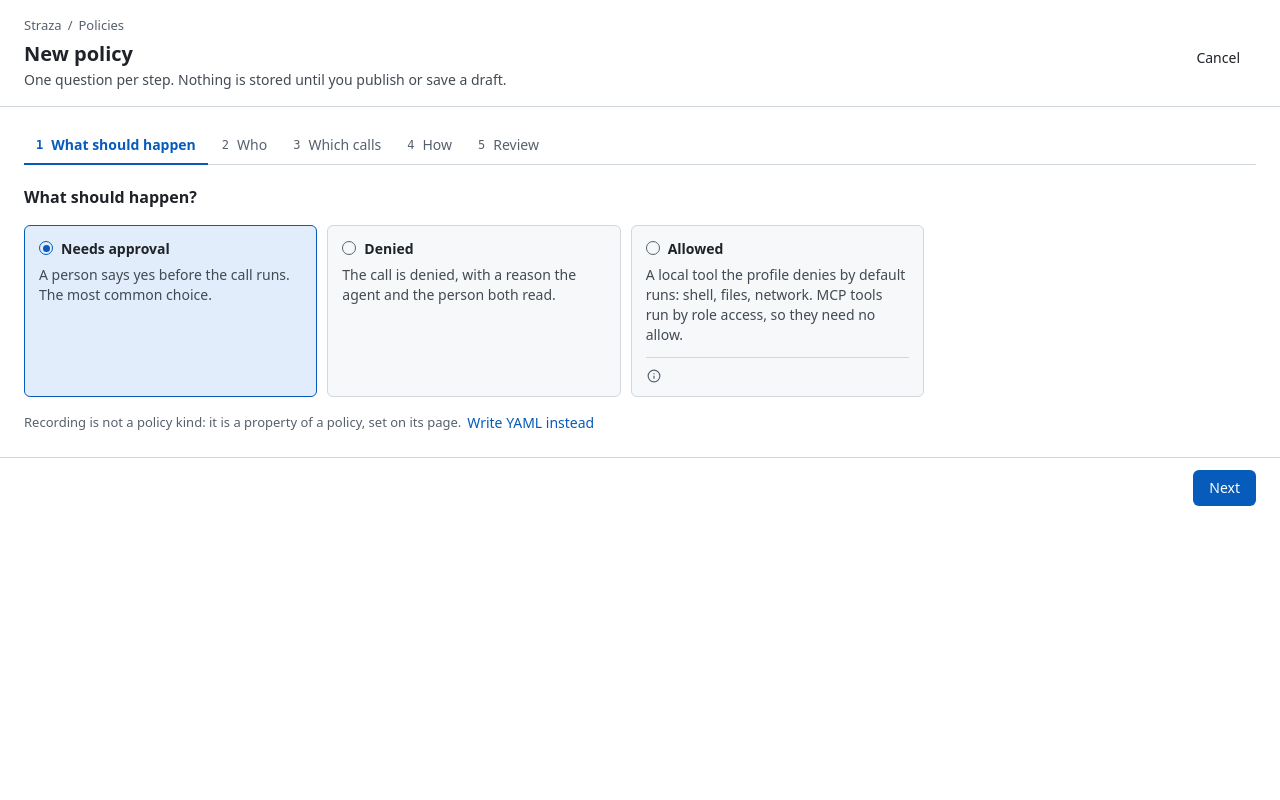
Scenario: the New policy wizard › opens the How step's lede on one tool, whose name keeps its case
The image size is (1280, 800).
Click the button "Next" at x=1225, y=488, box [1193, 470, 1256, 506]
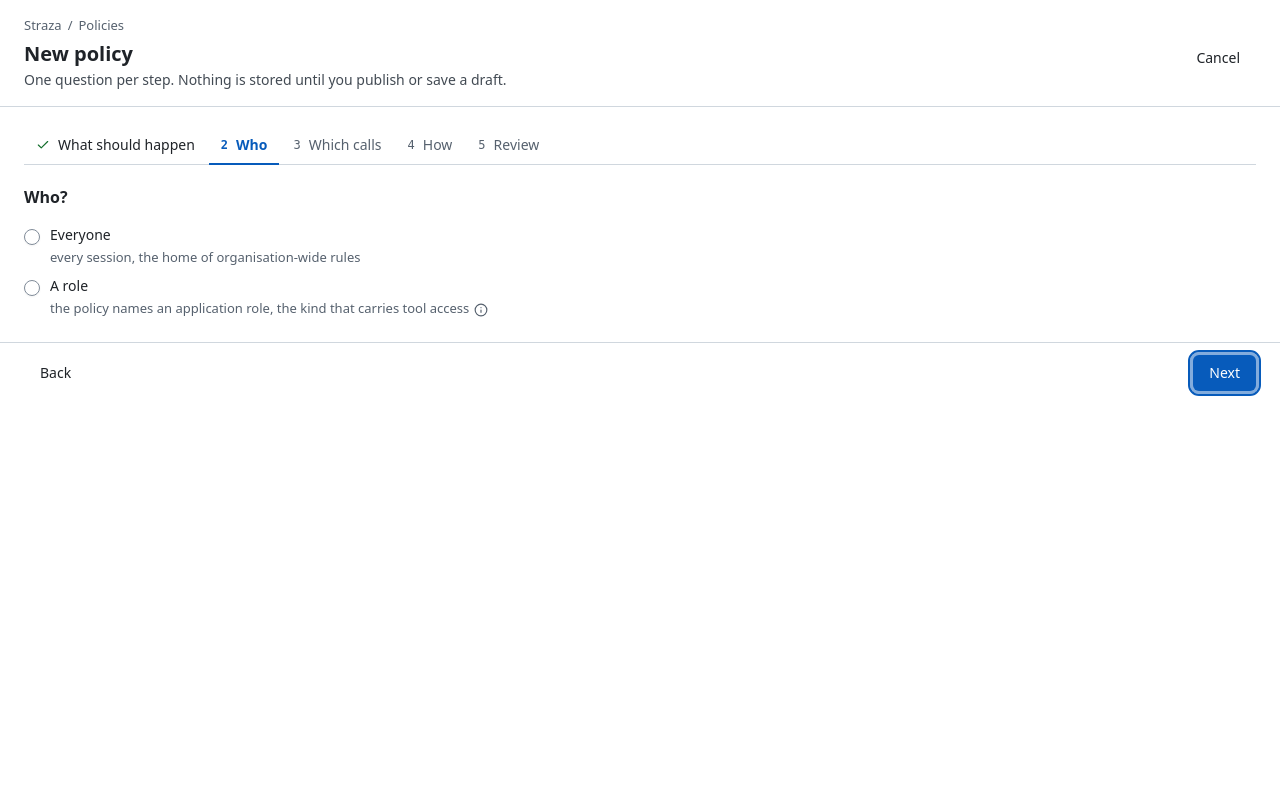
Click the radio button named "A role" at x=32, y=288, box [24, 280, 40, 296]
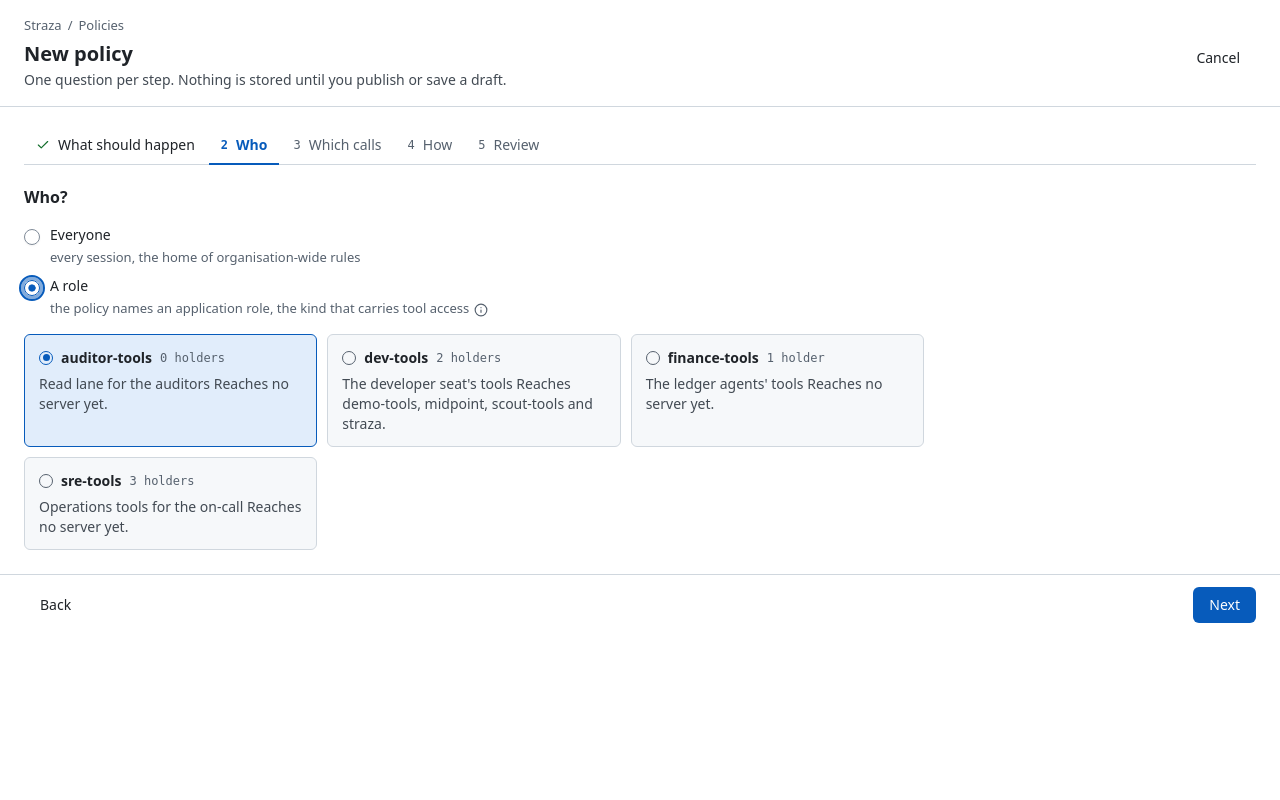
Click the radio button labelled "dev-tools" at x=474, y=391, box [328, 335, 620, 446]
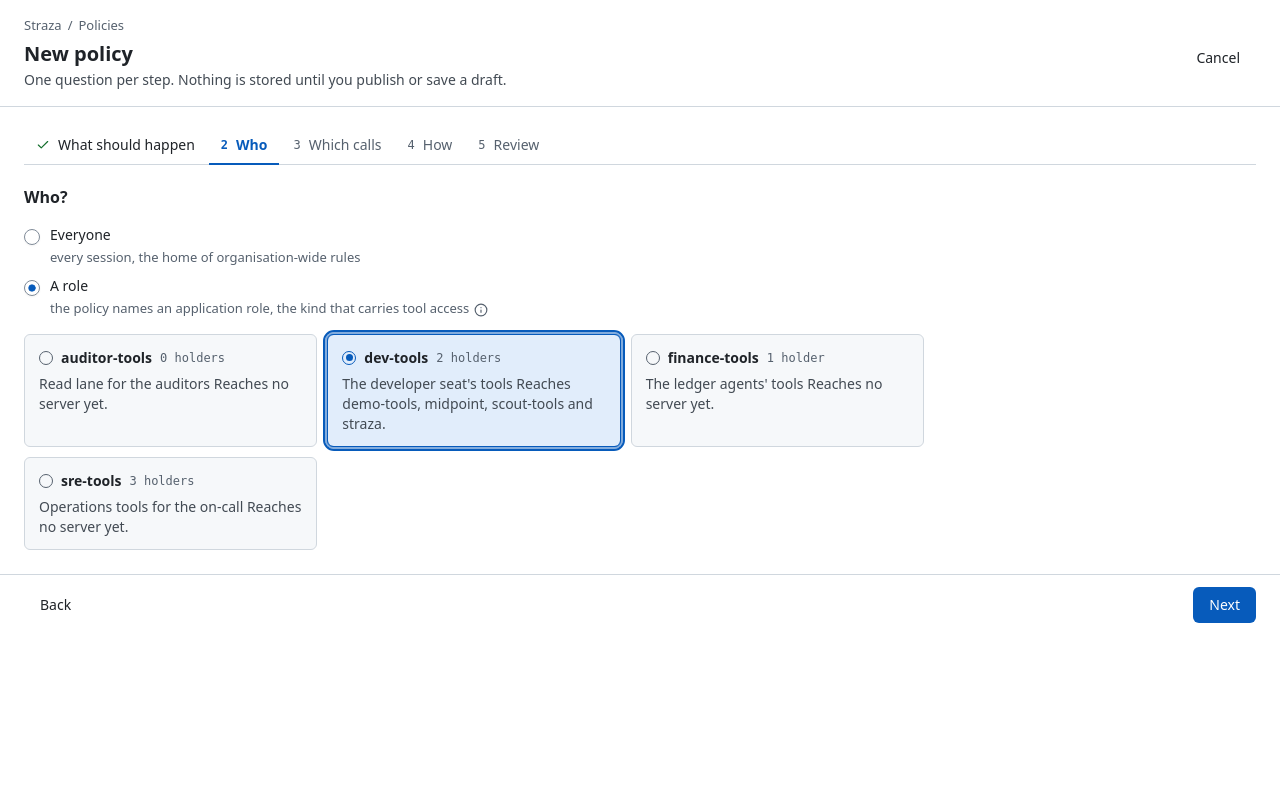
Click the button "Next" at x=1225, y=605, box [1193, 587, 1256, 623]
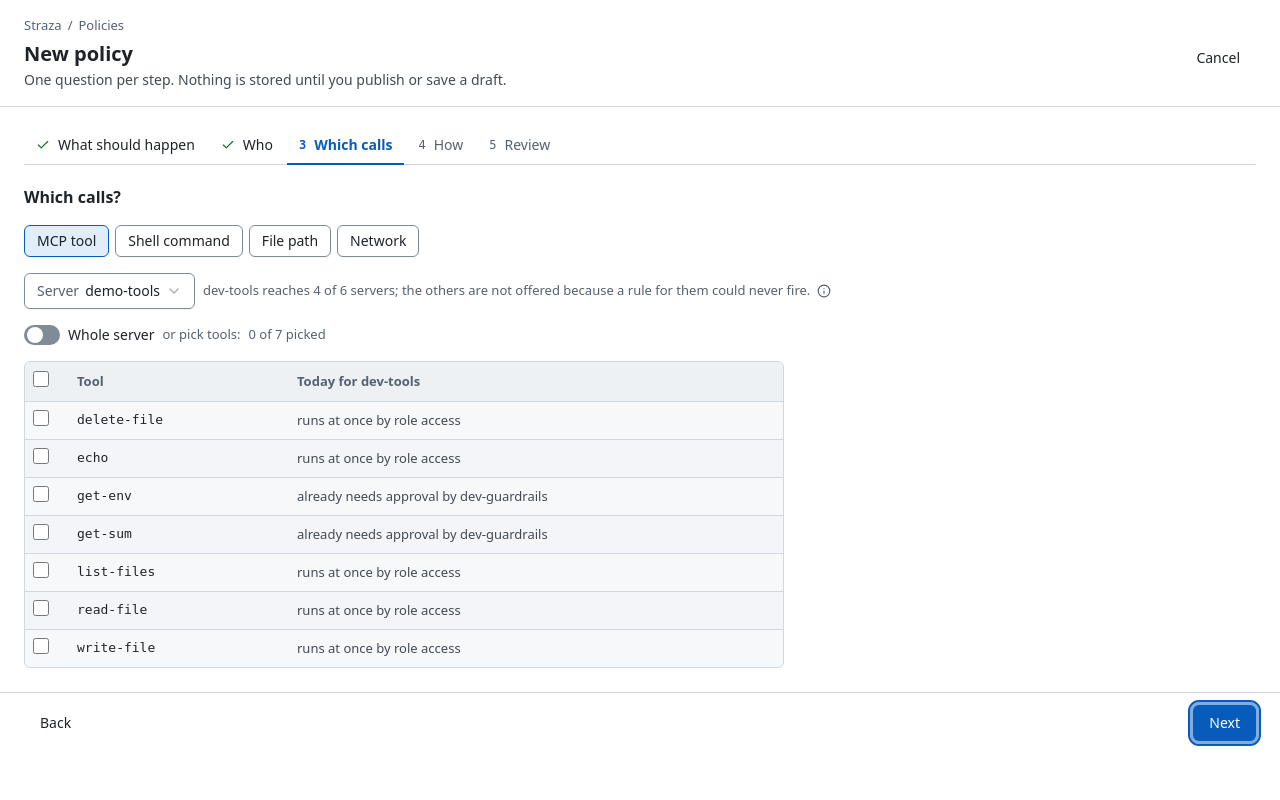
Result: the checkbox named "write-file" is shown
Click the checkbox named "write-file" at x=41, y=646, box [33, 638, 49, 654]
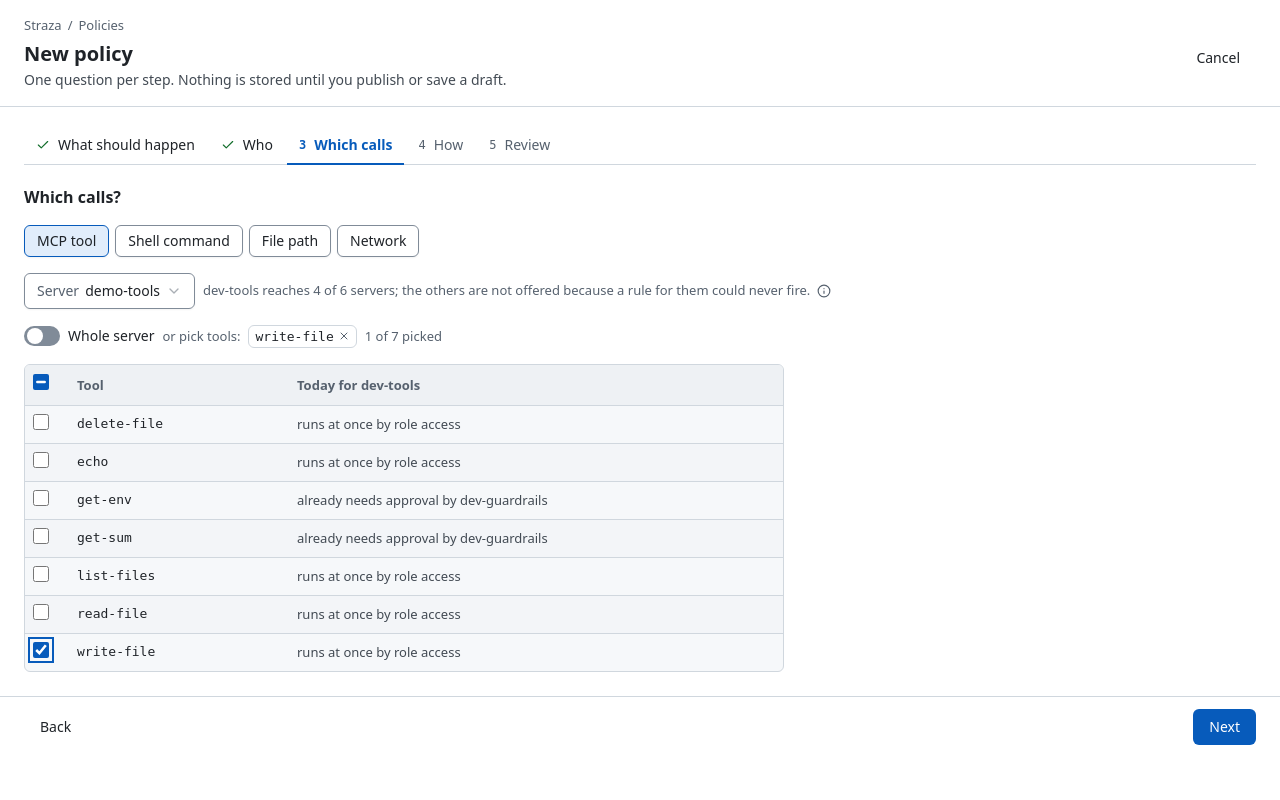
Click the button "Next" at x=1225, y=726, box [1193, 708, 1256, 744]
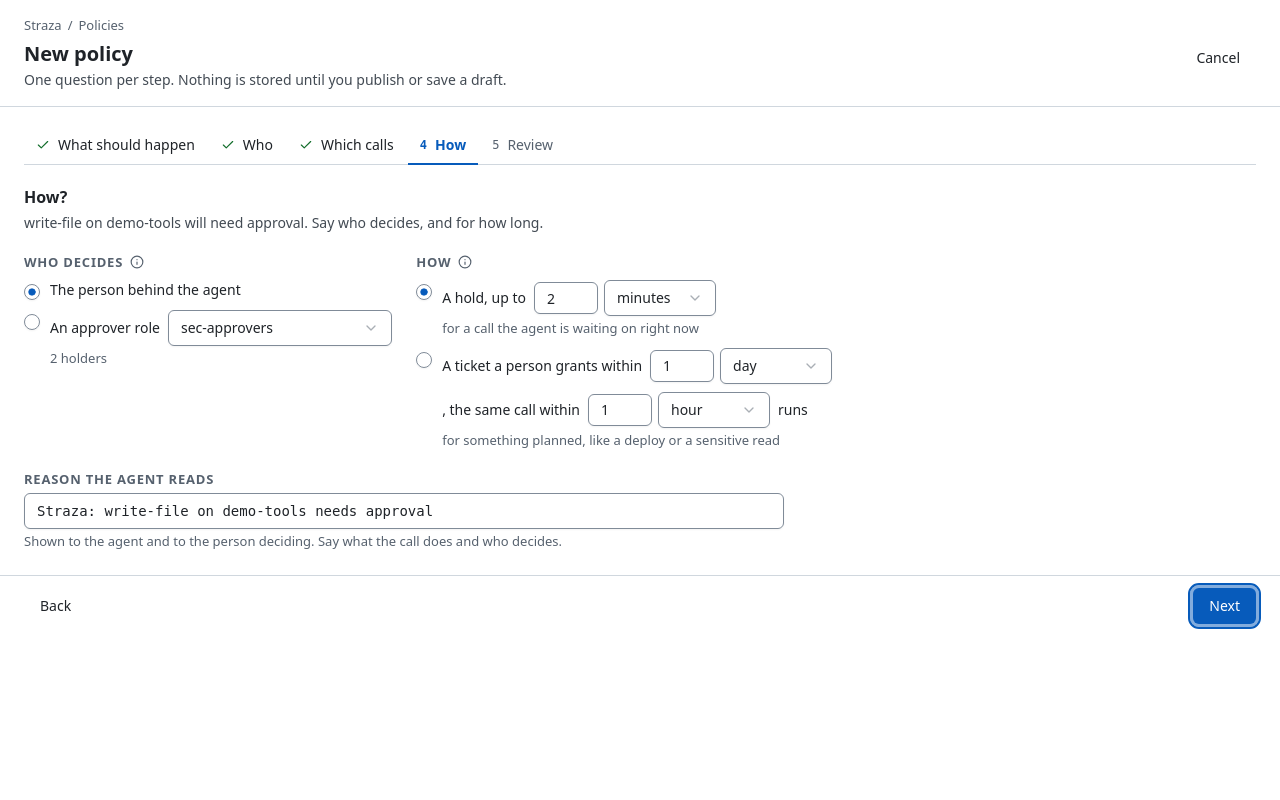
Result: the text "write-file on demo-tools will need approval. Say who decides, and for how long." is shown at [24, 212, 543, 232]
